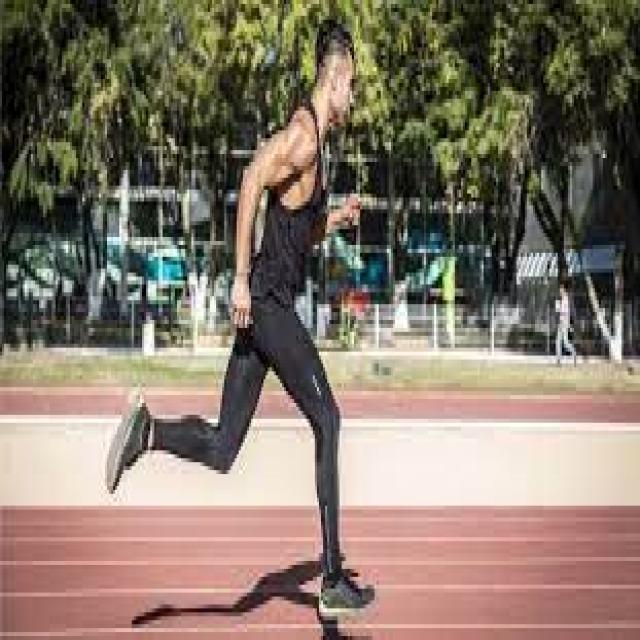running: (103, 18, 377, 624)
